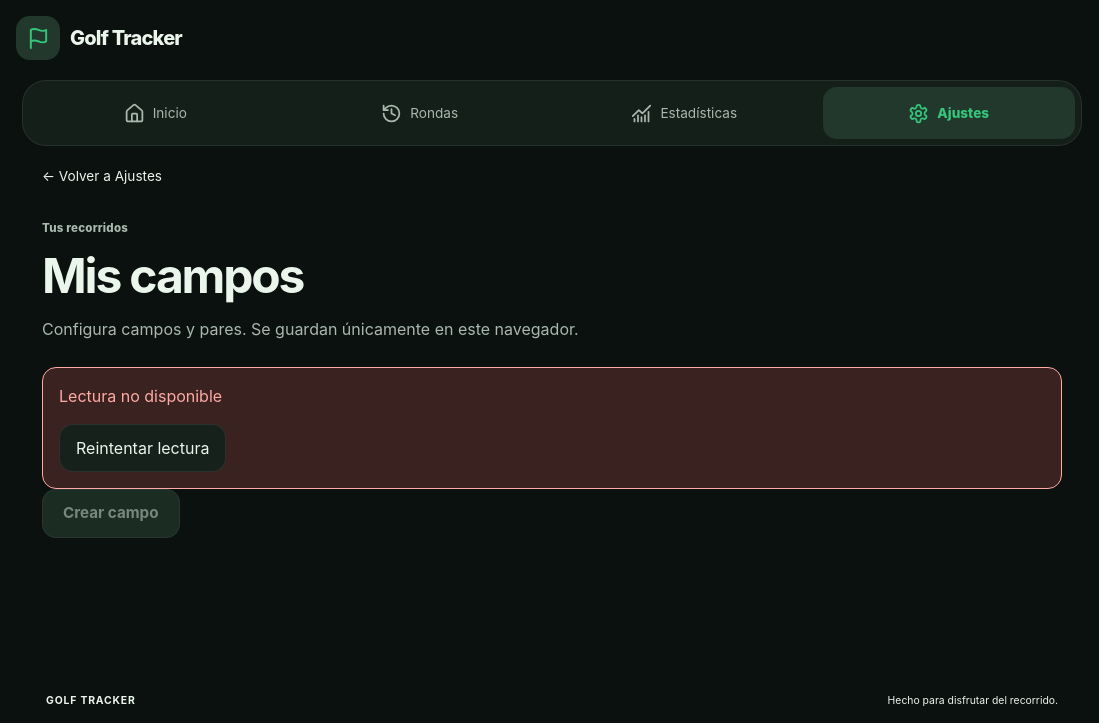
Gestión real y confirmaciones › muestra un error de lectura y permite reintentar
The width and height of the screenshot is (1099, 723).
Check: the message shows "Lectura no disponible", box [59,386,222,406]
Click the button "Reintentar lectura" at (143, 448), box [59,424,226,472]
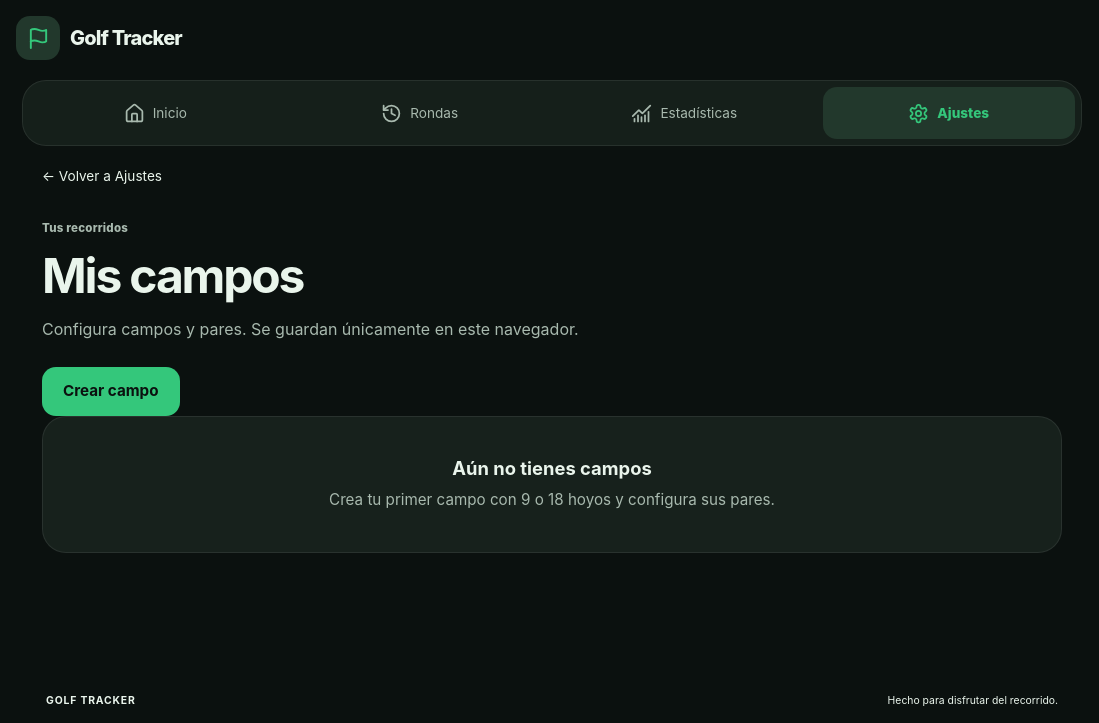
Check: the heading "Aún no tienes campos" is shown, box [452,457,652,479]
